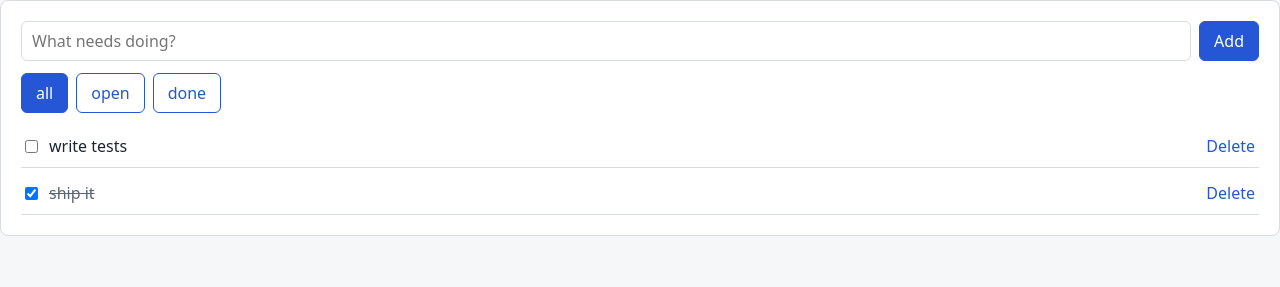
Test: TaskList › shows API errors to the user
This screenshot has width=1280, height=287.
Expected: the text "write tests" is shown, [25,135,127,157]
Type "x" into the field with placeholder "What needs doing?" at (606, 41), box [21,21,1191,61]
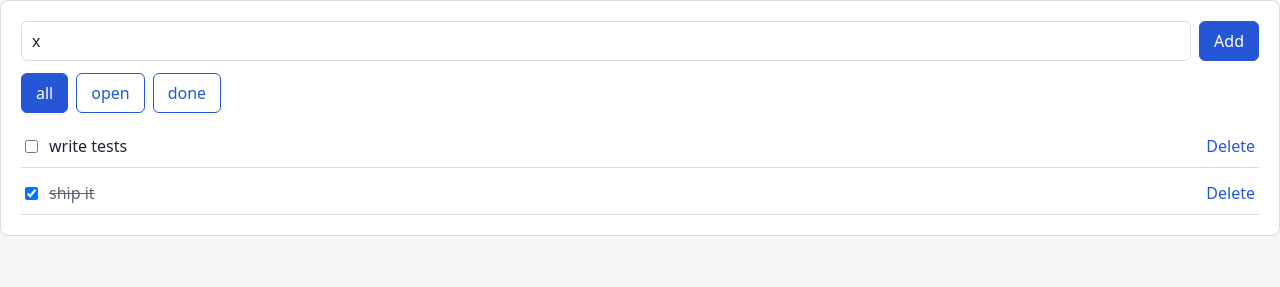
Click the button "Add" at (1229, 41), box [1199,21,1259,61]
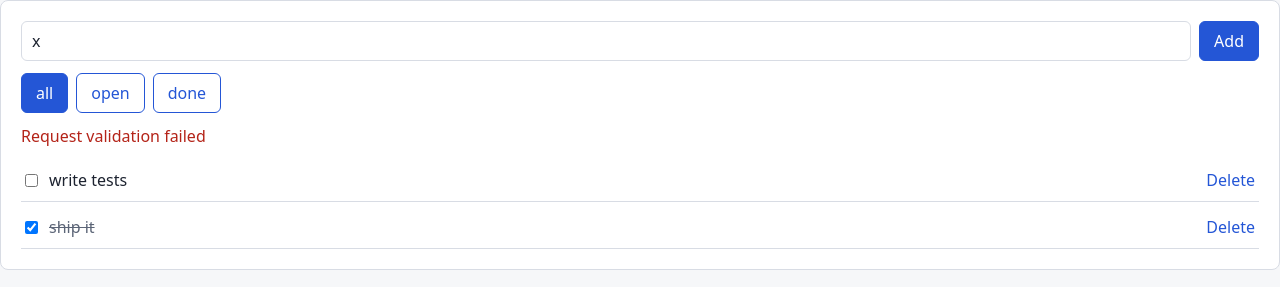
Expected: the message reads "Request validation failed", [21,125,206,147]
